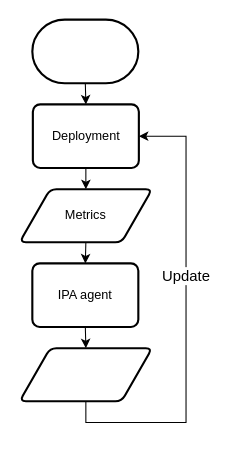
Image size: 228x449. Some labels were removed from this diagram. The shapes that lost their labels are listed below. From the top down, each one's box as (x1, y1, x2, y2) in pixels, then its label:
(31, 18, 139, 84): Start
(18, 347, 153, 402): Response
